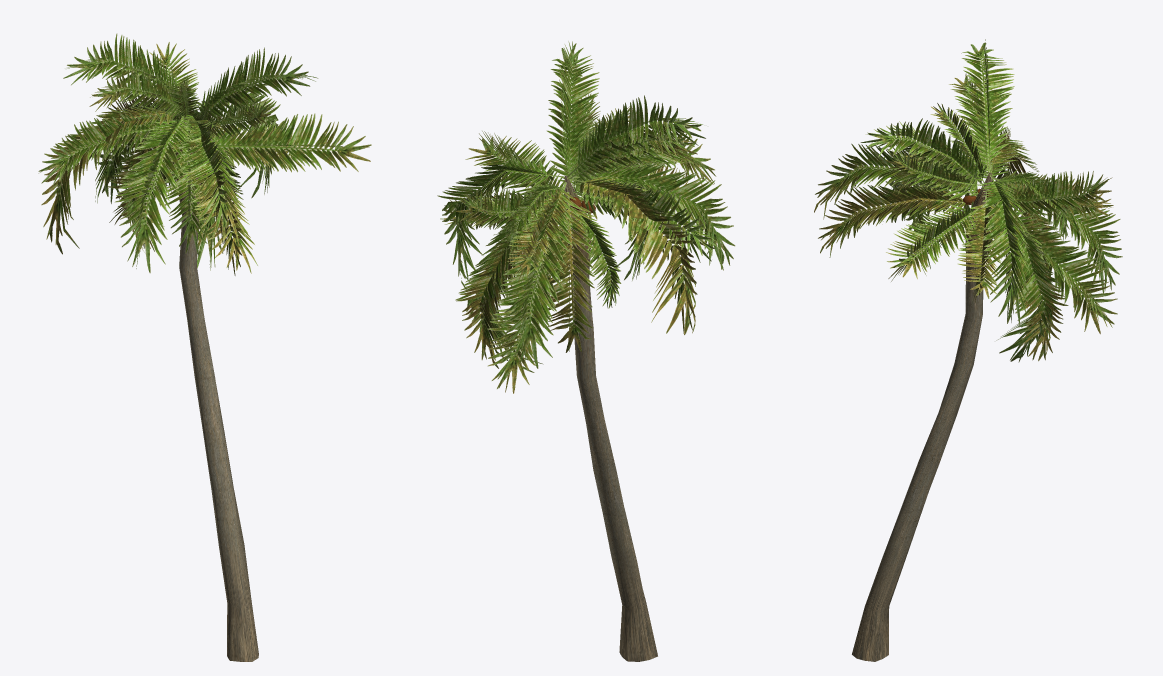
File: coconut_palm10.fbx
3 views of the same model, side by side, from view 1: azimuth 30°, elevation 25°; view 2: azimuth 150°, elevation 25°; view 3: azimuth 270°, elevation 25° (orthographic). The views are drawn at different scales.
Parts seen in each view (by area): view 1: coconut_palm10_leaves, coconut_palm10_trunk; view 2: coconut_palm10_leaves, coconut_palm10_trunk; view 3: coconut_palm10_leaves, coconut_palm10_trunk.
Part boxes in pixels (<box>): coconut_palm10_leaves: <box>38,33,371,275</box>; coconut_palm10_trunk: <box>174,111,258,661</box>; coconut_palm10_leaves: <box>437,41,735,393</box>; coconut_palm10_trunk: <box>564,176,657,661</box>; coconut_palm10_leaves: <box>814,39,1122,362</box>; coconut_palm10_trunk: <box>852,172,994,661</box>.
Bounding box in the file's own units: 338 × 599 × 335.
